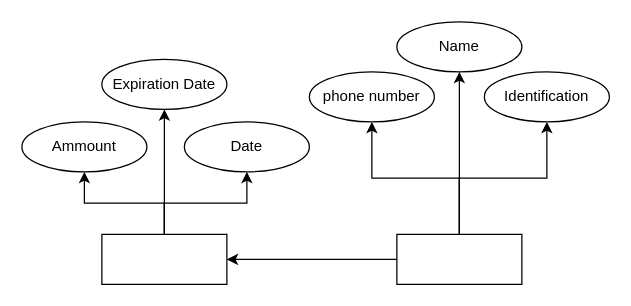
The diagram is 631 pixels wide and 306 high, and some of its shapes have lost their labels. The box of each missing label's shape, as (x1, y1, x2, y2) in pixels:
Cliente: (396, 233, 522, 284)
Payment: (101, 233, 227, 284)
